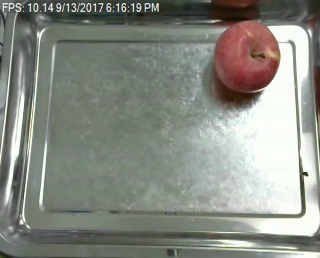Apple: (213, 18, 281, 93)
